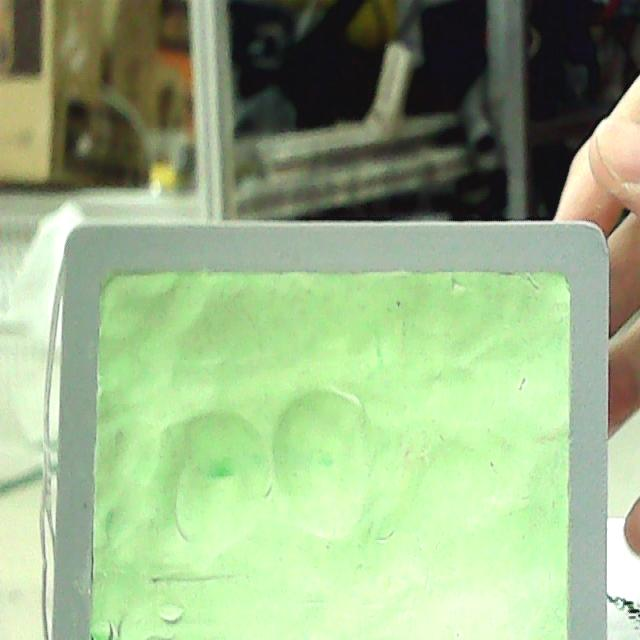block: (43, 222, 611, 636)
